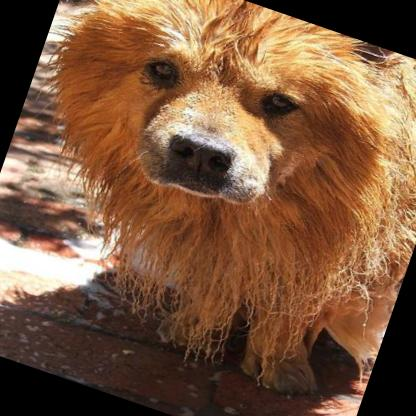chow: (0, 0, 416, 412)
